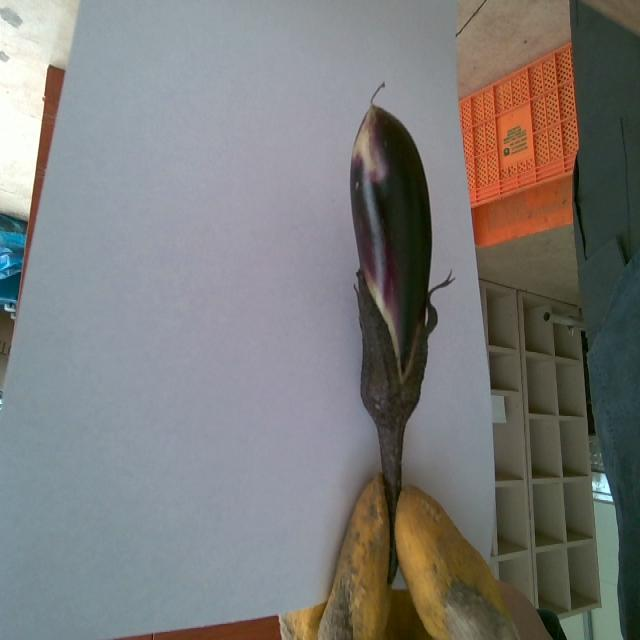Egg plant: (350, 107, 437, 527)
